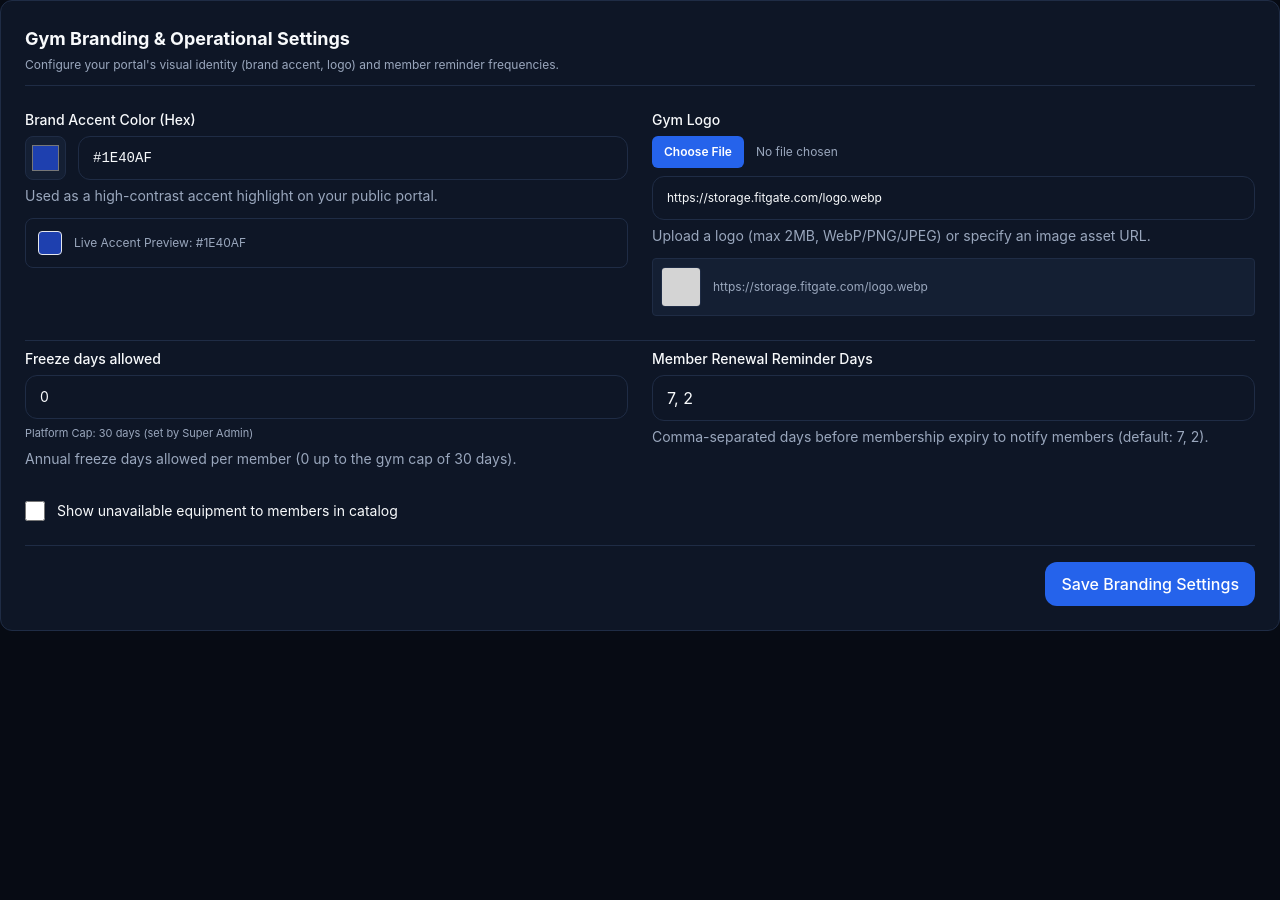
it: Sprint 4c: Gym branding, entry page, first-run checklist › GymBrandingSection › submits updated branding settings and shows success alert
The width and height of the screenshot is (1280, 900).
Replace the text in the field showing "#1E40AF" with "#10B981" at (353,158), box [78, 136, 628, 180]
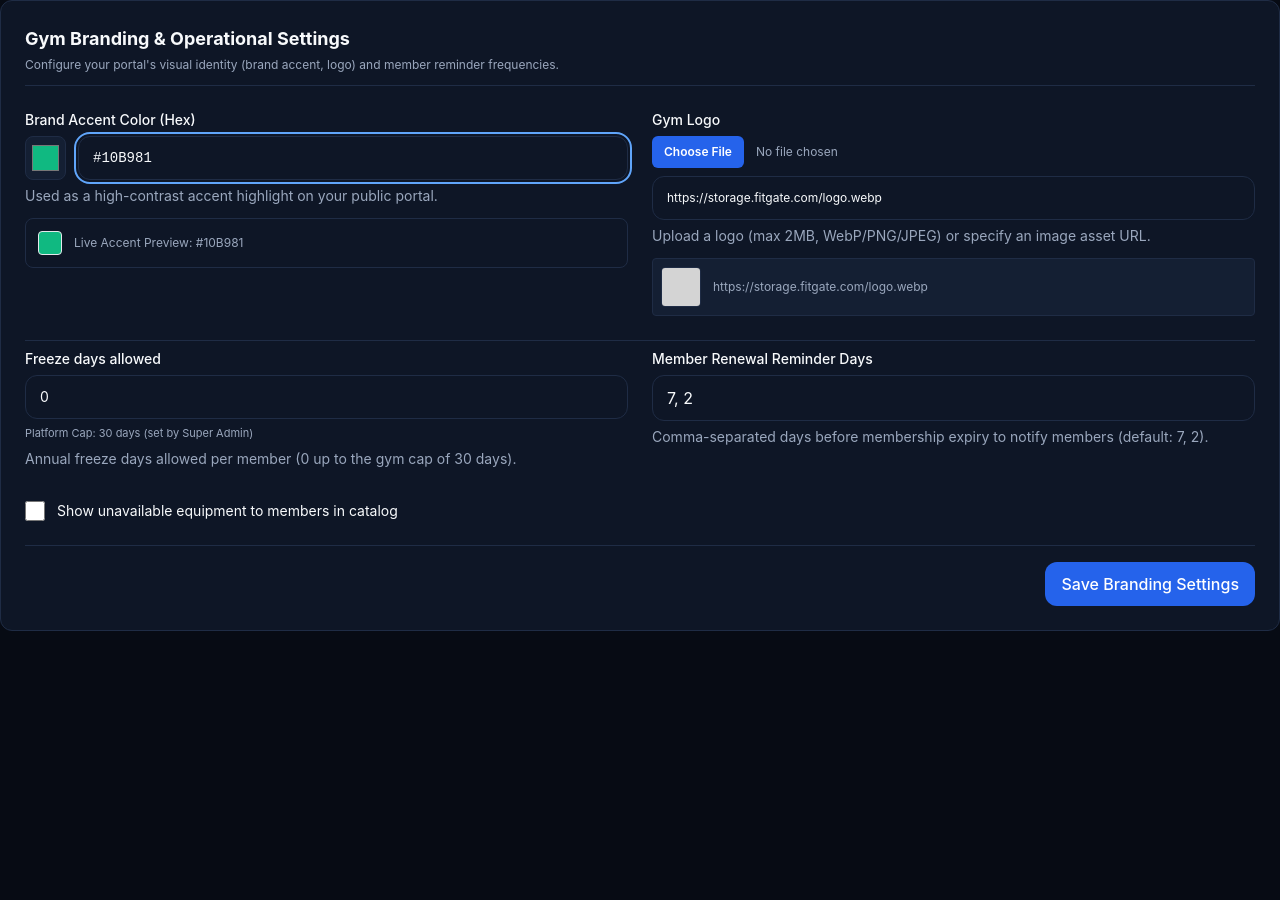
Click the button "Save Branding Settings".
click(1150, 584)  # box [1046, 562, 1255, 606]
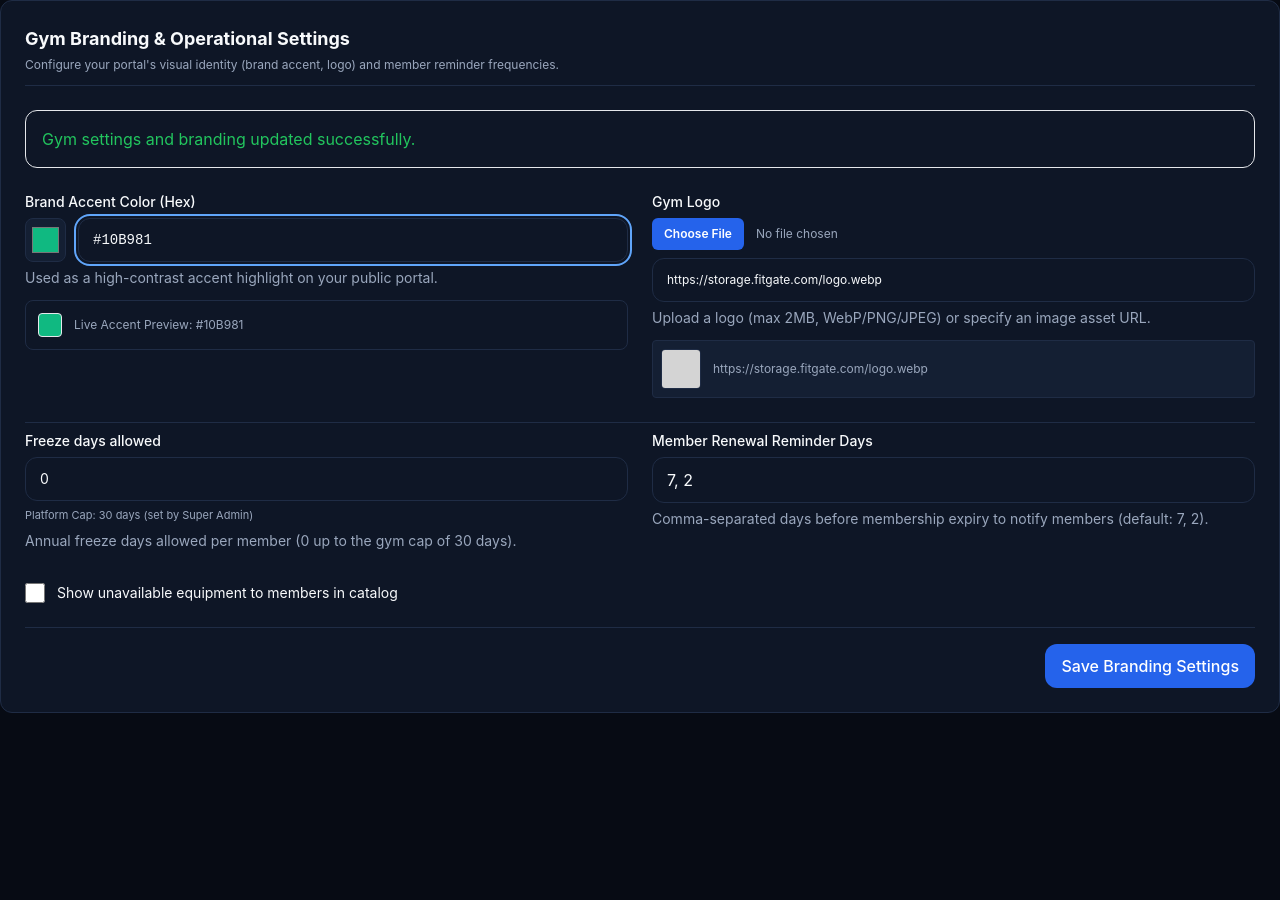
Now the text "Gym settings and branding updated successfully." is shown, box [42, 129, 416, 149]
